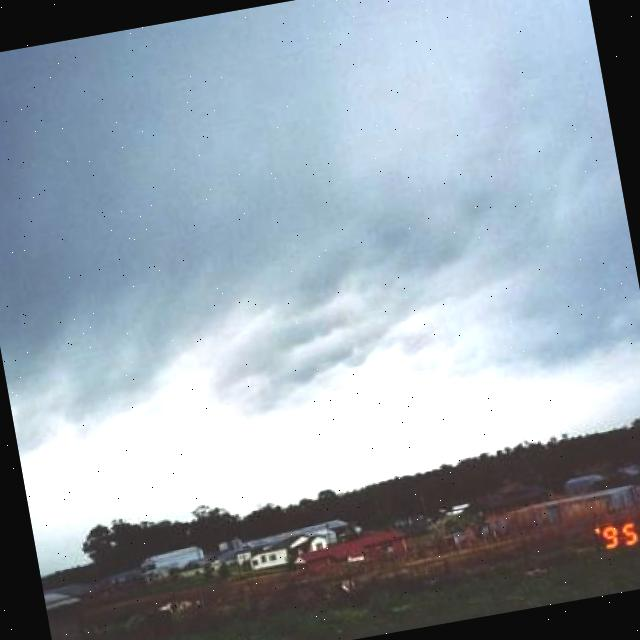Ns: (1, 41, 640, 502)
